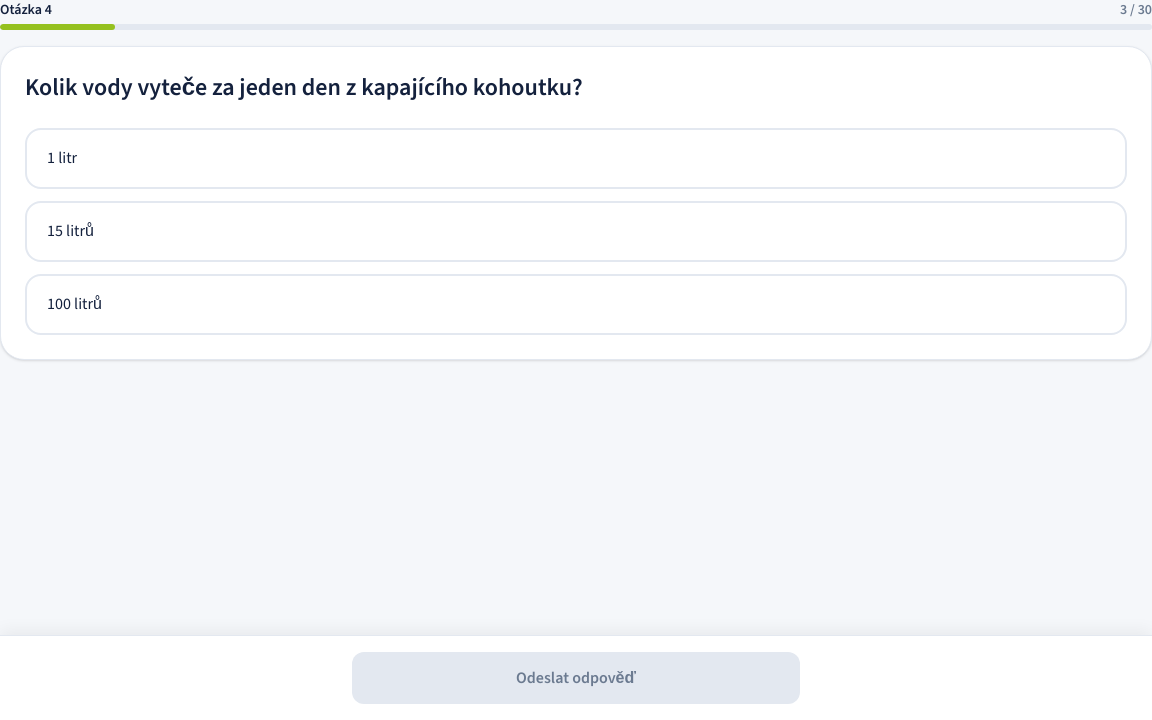
QuestionView › state A: submit is disabled until an answer is selected, then requires confirmation
The image size is (1152, 720).
Expected: the button "Odeslat odpověď" is disabled, x1=352 y1=652 x2=800 y2=704
Step 1. Click the radio button "15 litrů" → [70, 230], box x1=25 y1=201 x2=1127 y2=262
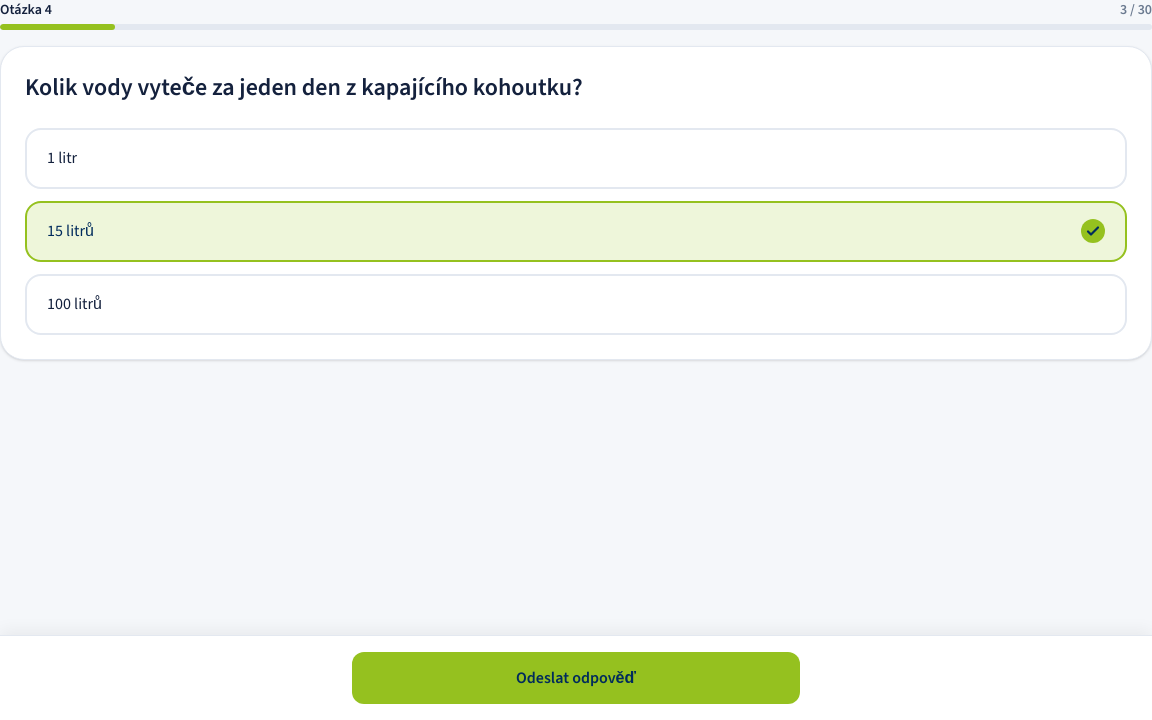
Now the button "Odeslat odpověď" is enabled
Step 2. Click the button "Odeslat odpověď" → [576, 678], box x1=352 y1=652 x2=800 y2=704
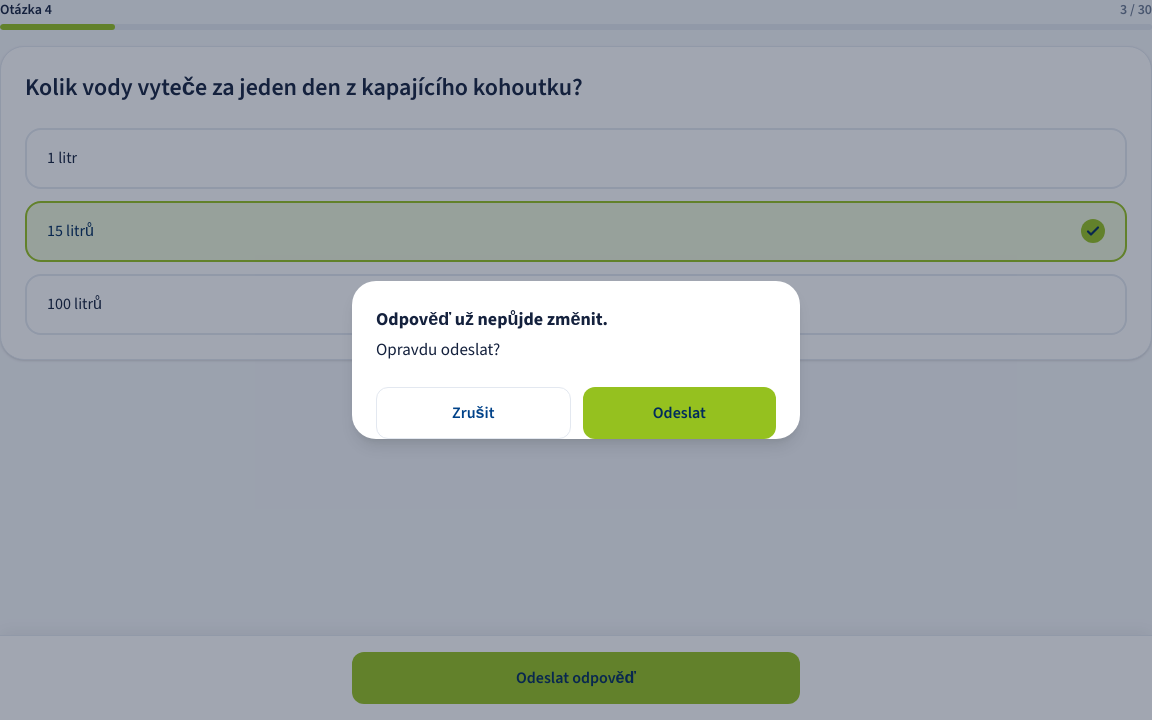
Now the text "Odpověď už nepůjde změnit." is shown, box x1=376 y1=307 x2=608 y2=331
Step 3. Click the button "Odeslat" → [679, 413], box x1=583 y1=387 x2=776 y2=439
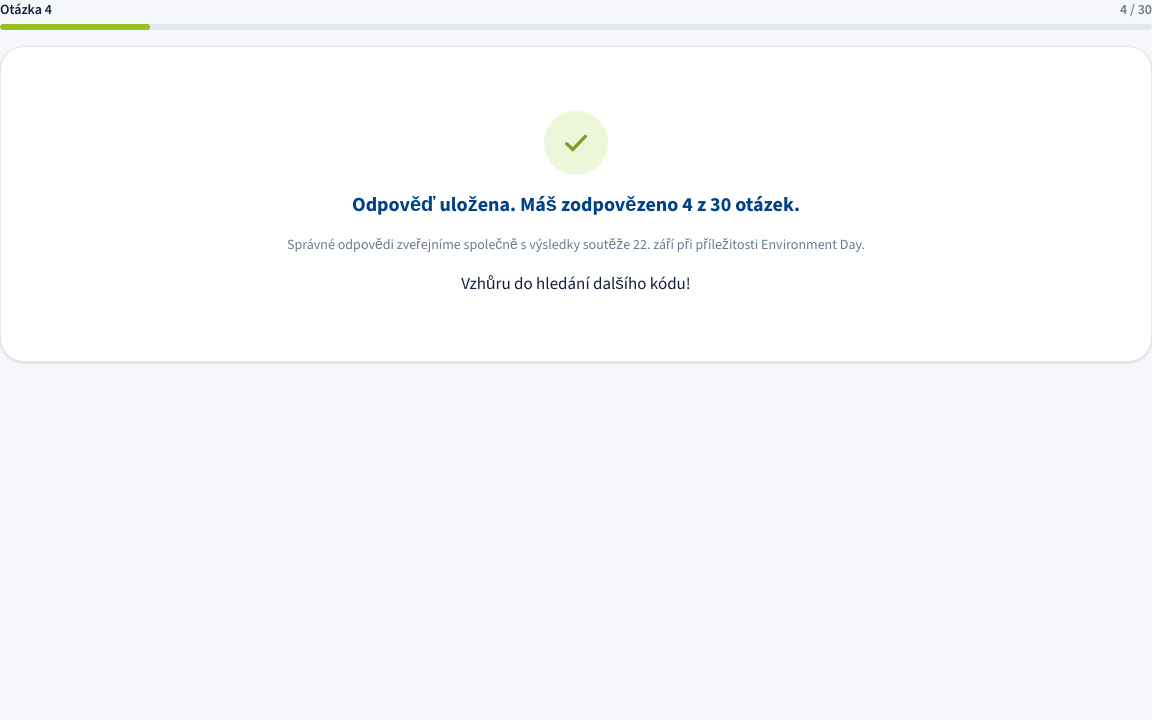
Now the text "Správné odpovědi zveřejníme společně s výsledky soutěže 22. září při příležitosti Environment Day." is shown, box x1=287 y1=235 x2=865 y2=254
Now the text "Vzhůru do hledání dalšího kódu!" is shown, box x1=461 y1=271 x2=691 y2=296
